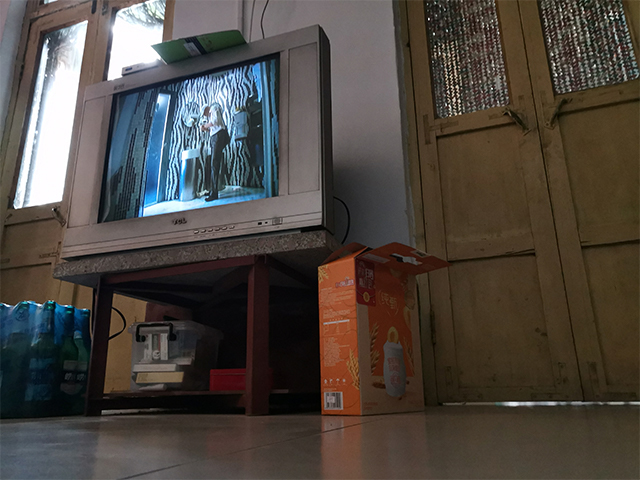table: (51, 228, 349, 418)
